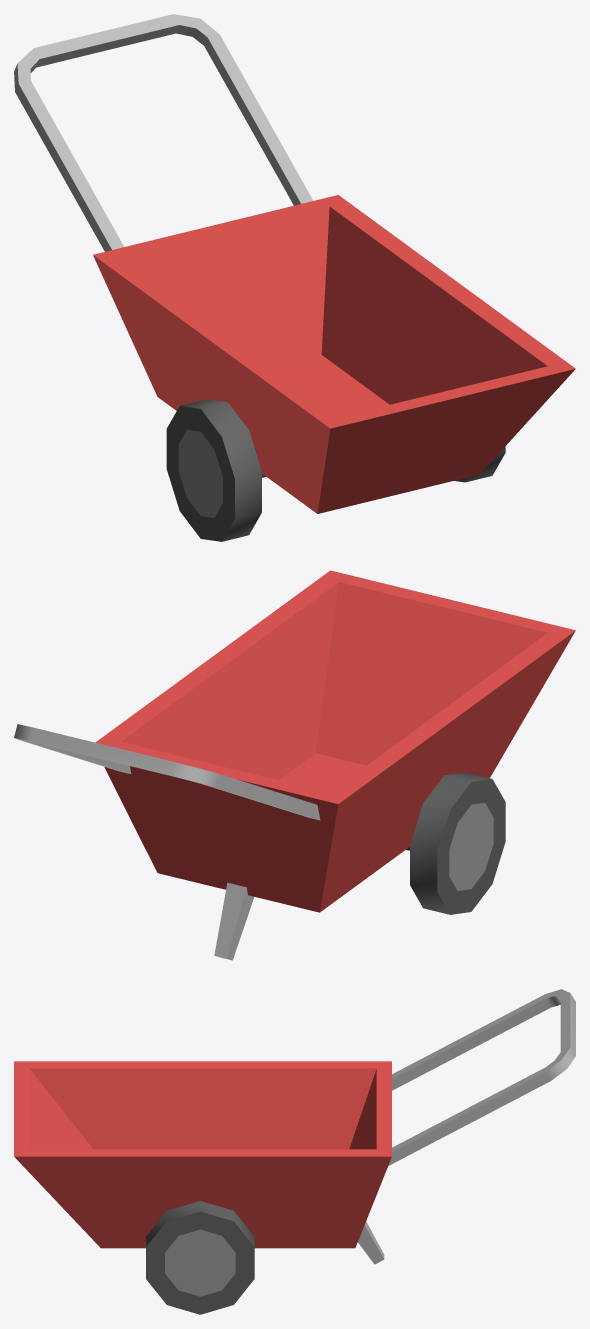
Rendered from SM_Prop_Cart_06.obj.
3 views of the same model, one above another, from view 1: azimuth 30°, elevation 25°; view 2: azimuth 150°, elevation 25°; view 3: azimuth 270°, elevation 25° (orthographic). The views are drawn at different scales.
Parts seen in each view (by area): view 1: SM_Prop_Cart_06_M_Material; view 2: SM_Prop_Cart_06_M_Material; view 3: SM_Prop_Cart_06_M_Material.
Boxes of the visible parts, x1,y1,x2,y2 form: SM_Prop_Cart_06_M_Material: (14,14,575,541); SM_Prop_Cart_06_M_Material: (14,570,575,960); SM_Prop_Cart_06_M_Material: (14,989,575,1314).
Size of the model in its own units: 0.8309 by 0.8932 by 1.88.
Materials: 1 (1 with a texture image).
